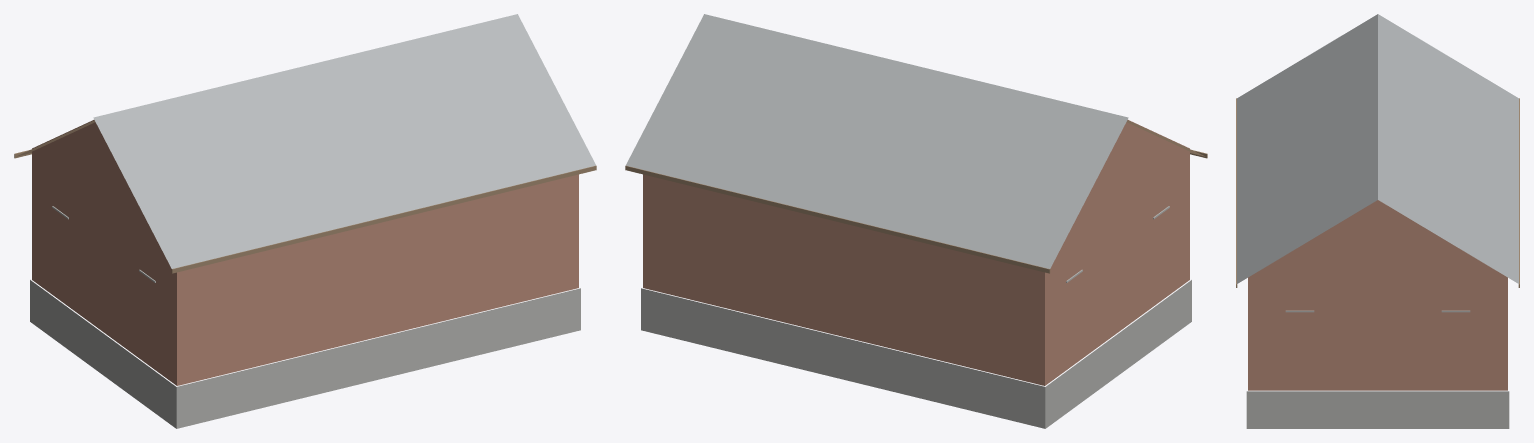
Rendered from barn.glb.
The picture shows the model from 3 angles, left to right: view 1: azimuth 30°, elevation 25°; view 2: azimuth 150°, elevation 25°; view 3: azimuth 270°, elevation 25°; orthographic projection. The views are drawn at different scales.
Parts seen in each view (by area): view 1: hi, far; view 2: hi, far; view 3: hi, far.
Boxes of the visible parts, x1=… form: hi: x1=14, y1=14, x2=596, y2=428; far: x1=32, y1=154, x2=578, y2=385; hi: x1=625, y1=14, x2=1207, y2=428; far: x1=643, y1=161, x2=1189, y2=385; hi: x1=1236, y1=14, x2=1519, y2=428; far: x1=1248, y1=272, x2=1507, y2=390.
Size of the model in its own units: 16.9 by 9.9 by 10.9.
